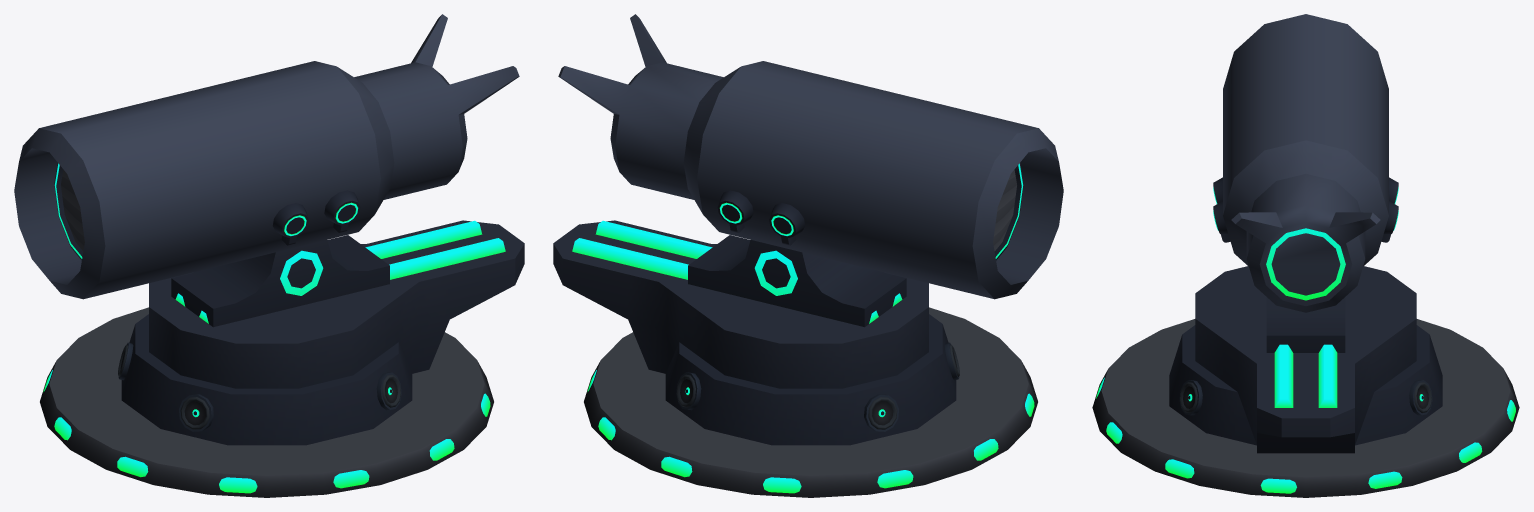
File: turquoise_02.fbx
The picture shows the model from 3 angles, left to right: view 1: azimuth 30°, elevation 25°; view 2: azimuth 150°, elevation 25°; view 3: azimuth 270°, elevation 25°; orthographic projection. The views are drawn at different scales.
Visible parts, largest first — view 1: Plane.012, Circle.002, turquoise_02; view 2: Plane.012, Circle.002, turquoise_02; view 3: Plane.012, Circle.002, turquoise_02.
Boxes of the visible parts, <box> form: Plane.012: <box>14,14,519,327</box>; Circle.002: <box>118,220,524,445</box>; turquoise_02: <box>40,307,493,497</box>; Plane.012: <box>558,14,1063,327</box>; Circle.002: <box>553,220,959,445</box>; turquoise_02: <box>584,307,1037,497</box>; Plane.012: <box>1213,14,1398,352</box>; Circle.002: <box>1169,266,1442,453</box>; turquoise_02: <box>1092,319,1519,497</box>.
Bounding box in the file's own units: 604 × 398 × 514.
